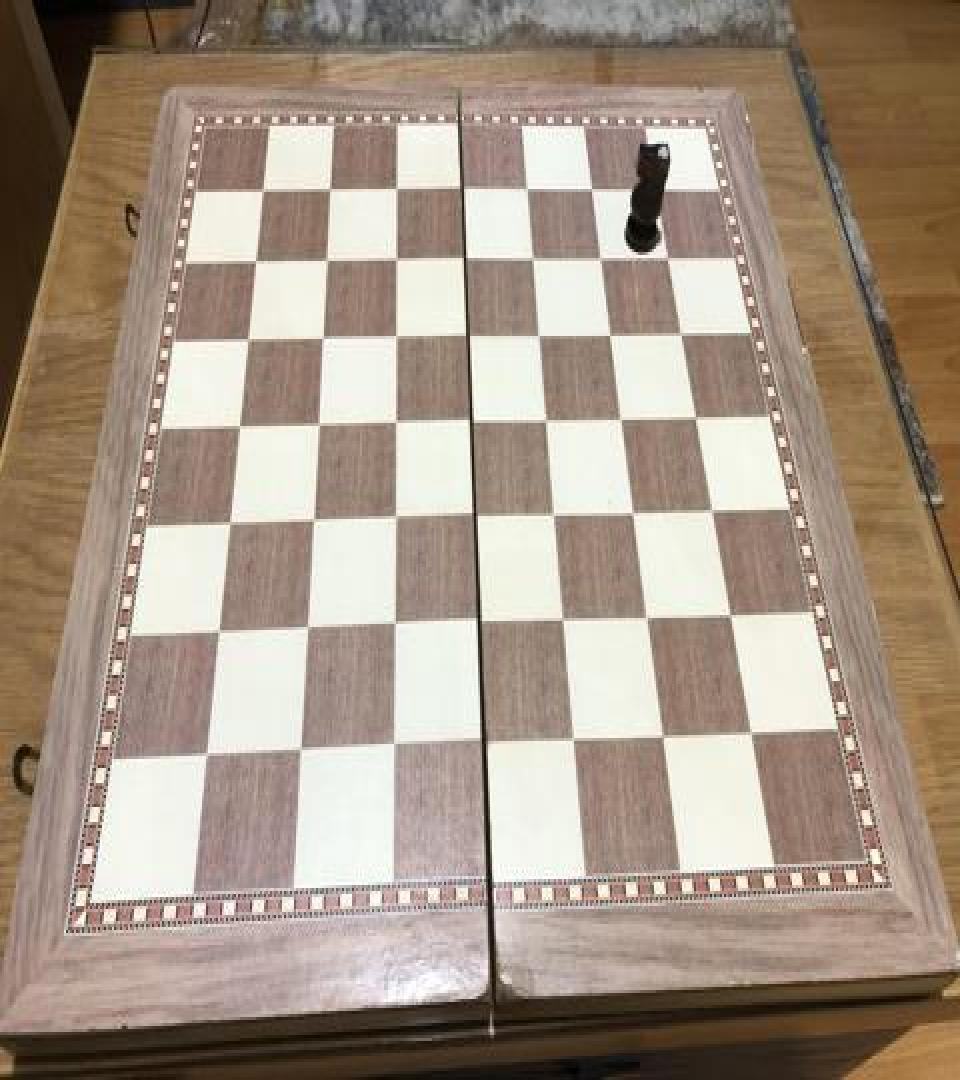xcorner: (468, 601, 492, 638), (208, 610, 232, 647), (742, 712, 766, 749), (381, 727, 405, 764), (195, 733, 219, 770), (644, 168, 668, 204), (580, 168, 604, 204), (516, 168, 540, 204), (451, 170, 475, 206), (386, 170, 410, 206), (320, 170, 344, 206), (253, 171, 277, 207), (656, 236, 680, 272), (589, 237, 613, 273), (522, 237, 546, 273), (454, 238, 478, 274), (385, 238, 409, 274), (316, 240, 340, 276), (246, 240, 270, 276), (670, 310, 694, 346), (599, 312, 623, 348), (528, 314, 552, 350), (457, 315, 481, 351), (384, 316, 408, 352), (312, 316, 336, 352), (238, 318, 262, 354), (685, 394, 709, 430), (611, 396, 635, 432), (536, 398, 560, 434), (460, 399, 484, 435), (384, 402, 408, 438), (307, 404, 331, 440), (229, 405, 253, 441), (702, 489, 726, 525), (623, 490, 647, 526), (544, 492, 568, 528), (464, 495, 488, 531), (383, 496, 407, 532), (301, 500, 325, 536), (219, 501, 243, 537), (721, 594, 745, 630), (637, 597, 661, 633), (553, 598, 577, 634), (382, 604, 406, 640), (295, 608, 319, 644), (653, 717, 677, 753), (563, 720, 587, 756), (473, 723, 497, 759), (288, 730, 312, 766)
